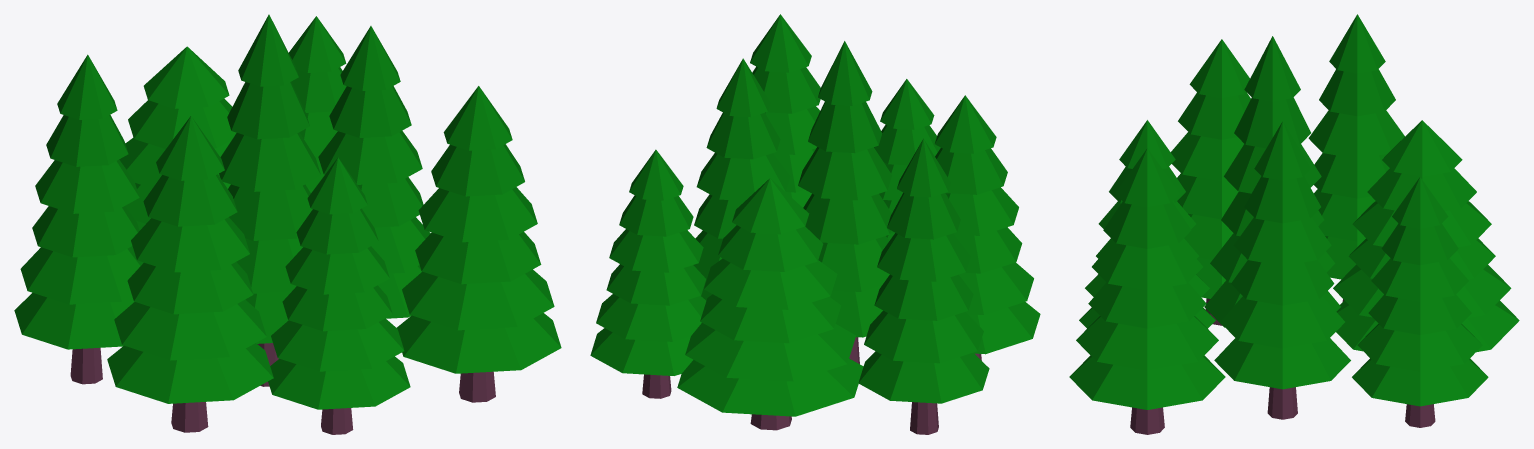
File: LowPolyTrees.fbx
The picture shows the model from 3 angles, left to right: view 1: azimuth 30°, elevation 25°; view 2: azimuth 150°, elevation 25°; view 3: azimuth 270°, elevation 25°; orthographic projection. The views are drawn at different scales.
Parts seen in each view (by area): view 1: Cylinder.004, Cylinder.001, Cylinder.007, Cylinder, Cylinder.002, Cylinder.003, Cylinder.005, Cylinder.006; view 2: Cylinder.005, Cylinder.007, Cylinder.006, Cylinder.002, Cylinder.004, Cylinder.003, Cylinder.001, Cylinder; view 3: Cylinder.001, Cylinder.003, Cylinder.006, Cylinder.005, Cylinder.007, Cylinder.004, Cylinder.002, Cylinder.
Part boxes in pixels (x1=…): Cylinder.004: x1=107, y1=116, x2=273, y2=432; Cylinder.001: x1=396, y1=86, x2=561, y2=402; Cylinder.007: x1=14, y1=54, x2=143, y2=384; Cylinder: x1=268, y1=157, x2=410, y2=434; Cylinder.002: x1=219, y1=14, x2=320, y2=386; Cylinder.003: x1=318, y1=26, x2=430, y2=318; Cylinder.005: x1=119, y1=46, x2=236, y2=230; Cylinder.006: x1=289, y1=16, x2=346, y2=192; Cylinder.005: x1=677, y1=178, x2=863, y2=430; Cylinder.007: x1=858, y1=138, x2=989, y2=434; Cylinder.006: x1=590, y1=149, x2=706, y2=398; Cylinder.002: x1=798, y1=41, x2=892, y2=363; Cylinder.004: x1=935, y1=95, x2=1040, y2=360; Cylinder.003: x1=693, y1=58, x2=790, y2=300; Cylinder.001: x1=750, y1=14, x2=820, y2=207; Cylinder: x1=874, y1=79, x2=940, y2=240; Cylinder.001: x1=1069, y1=148, x2=1225, y2=434; Cylinder.003: x1=1214, y1=121, x2=1350, y2=419; Cylinder.006: x1=1352, y1=177, x2=1488, y2=427; Cylinder.005: x1=1333, y1=120, x2=1519, y2=352; Cylinder.007: x1=1308, y1=14, x2=1404, y2=301; Cylinder.004: x1=1170, y1=39, x2=1250, y2=325; Cylinder.002: x1=1204, y1=36, x2=1340, y2=327; Cylinder: x1=1079, y1=120, x2=1215, y2=328.
Bounding box in the file's own units: 14.7 × 12.37 × 15.23.
